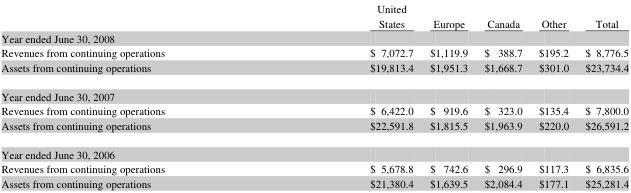table: (0, 0, 628, 189)
table column: (0, 0, 266, 189), (266, 0, 421, 189), (421, 0, 475, 189), (475, 0, 529, 189), (576, 0, 628, 189), (529, 0, 576, 189)
table column header: (0, 0, 628, 30)
table projected row header: (0, 81, 628, 102), (0, 139, 628, 160), (0, 30, 628, 45)
table row: (0, 0, 628, 30), (0, 59, 628, 81), (0, 117, 628, 139), (0, 81, 628, 102), (0, 139, 628, 160), (0, 30, 628, 45), (0, 102, 628, 117), (0, 160, 628, 175), (0, 45, 628, 59), (0, 175, 628, 189)
